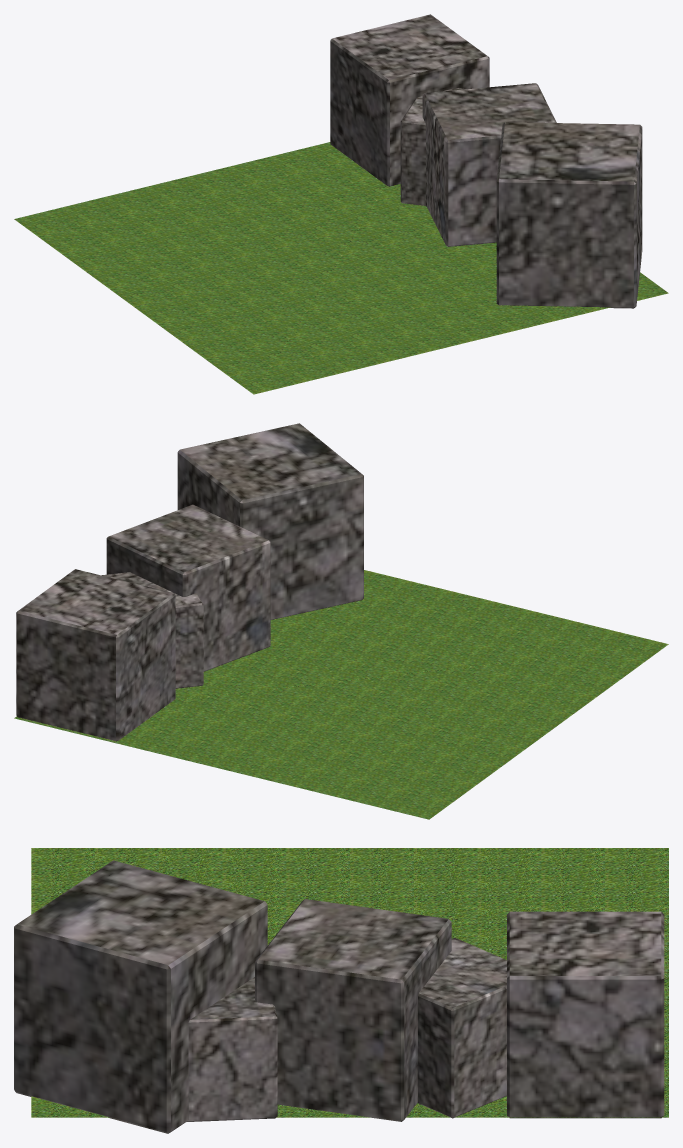
The model's file is right.FBX.
3 renders of one model, top to bottom at view 1: azimuth 30°, elevation 25°; view 2: azimuth 150°, elevation 25°; view 3: azimuth 270°, elevation 25°, orthographic. The views are drawn at different scales.
Visible parts, largest first — view 1: right, Cube.066, Cube.062, Cube.064, Cube.063; view 2: right, Cube.066, Cube.062, Cube.064, Cube.063; view 3: Cube.066, right, Cube.062, Cube.064, Cube.063, Cube.065.
Part boxes in pixels (x1,y1,x2,y2): right: (14, 142, 668, 394); Cube.066: (496, 122, 642, 308); Cube.062: (330, 14, 489, 186); Cube.064: (422, 83, 556, 246); Cube.063: (400, 88, 466, 205); right: (14, 570, 668, 819); Cube.066: (177, 423, 363, 619); Cube.062: (16, 569, 175, 741); Cube.064: (106, 504, 270, 671); Cube.063: (102, 572, 203, 688); Cube.066: (14, 860, 267, 1133); right: (31, 848, 668, 1117); Cube.062: (507, 911, 664, 1118); Cube.064: (255, 899, 451, 1121); Cube.063: (417, 937, 506, 1118); Cube.065: (186, 977, 277, 1121).
Bounding box in the file's own units: 1059 × 1027 × 292.
Materials: 2 (2 with a texture image).
